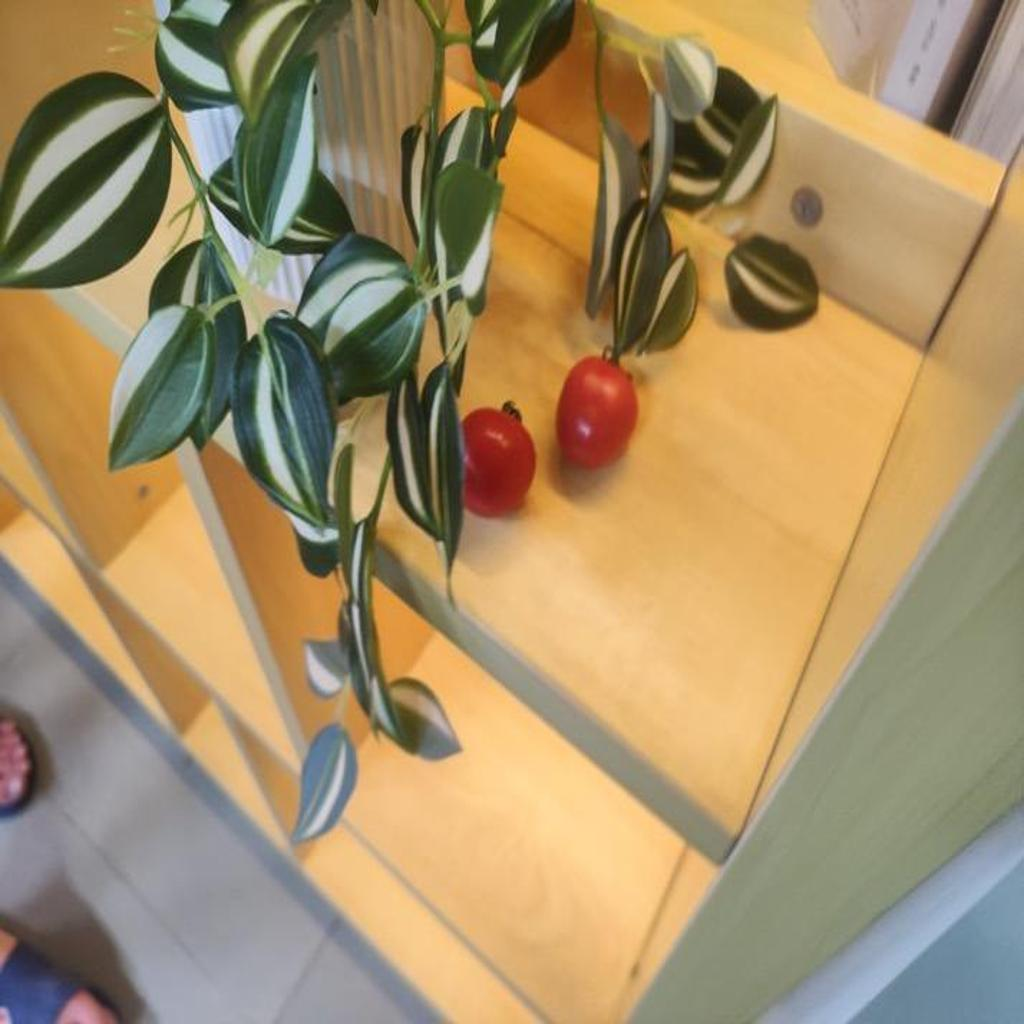tomato: (547, 347, 649, 485), (452, 404, 541, 517)
